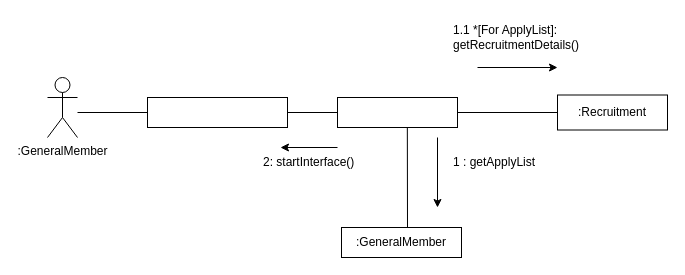
Some shapes in this 685 by 275 pixel diagram are drawn without their labels. The shapes that lost their labels are listed below. From the top down, each one's centre as x and y in pixels, then its label:
At point 217,112: ":ShowApplyInforUI".
At point 397,112: ":ShowApplyInfor".
